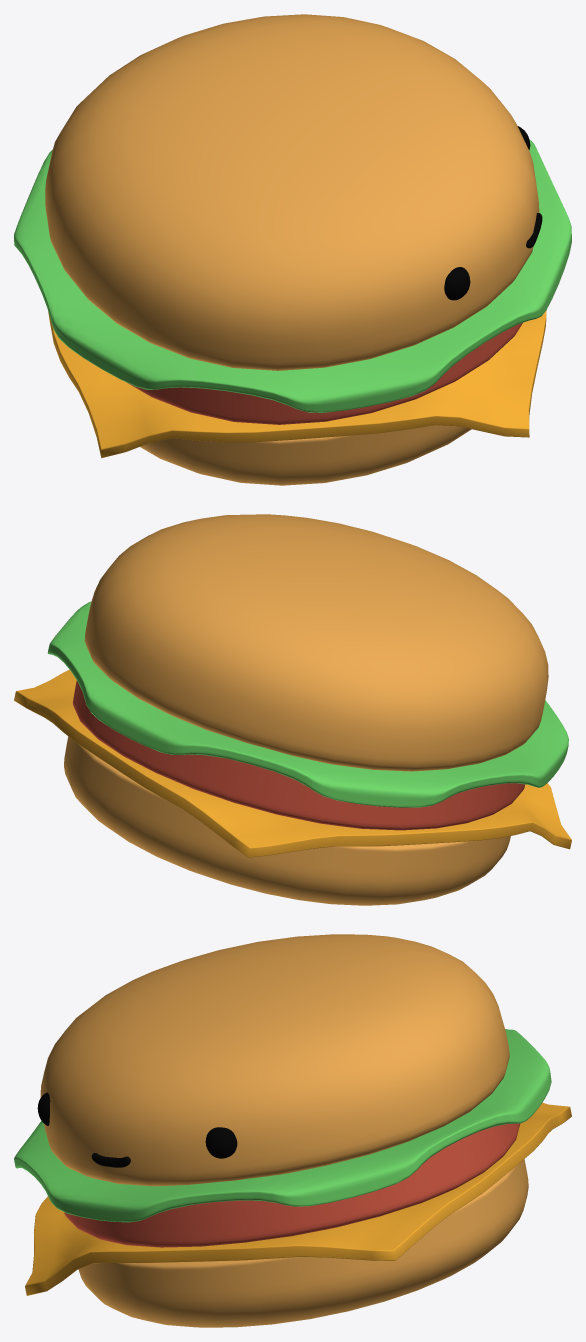
3 renders of one model, top to bottom at view 1: azimuth 30°, elevation 25°; view 2: azimuth 150°, elevation 25°; view 3: azimuth 270°, elevation 25°, orthographic. The views are drawn at different scales.
Parts seen in each view (by area): view 1: Cube, Cylinder, Plane, Cube.003, Cube.001, Cube.002; view 2: Cube, Cube.003, Cylinder, Plane, Cube.001; view 3: Cube, Cube.003, Cylinder, Plane, Cube.001, Cube.004.
Boxes of the visible parts, bbox=[...] form: Cube: bbox=[45, 14, 539, 370]; Cylinder: bbox=[14, 140, 571, 412]; Plane: bbox=[48, 310, 546, 458]; Cube.003: bbox=[140, 425, 471, 485]; Cube.001: bbox=[127, 323, 522, 424]; Cube.002: bbox=[444, 267, 470, 300]; Cube: bbox=[84, 514, 548, 771]; Cube.003: bbox=[64, 736, 510, 905]; Cylinder: bbox=[47, 601, 568, 807]; Plane: bbox=[14, 669, 571, 857]; Cube.001: bbox=[73, 680, 525, 830]; Cube: bbox=[40, 934, 509, 1186]; Cube.003: bbox=[78, 1159, 528, 1327]; Cylinder: bbox=[14, 1029, 551, 1222]; Plane: bbox=[25, 1102, 571, 1295]; Cube.001: bbox=[64, 1123, 520, 1247]; Cube.004: bbox=[205, 1127, 237, 1158].
Size of the model in its own units: 332 by 216 by 334.
